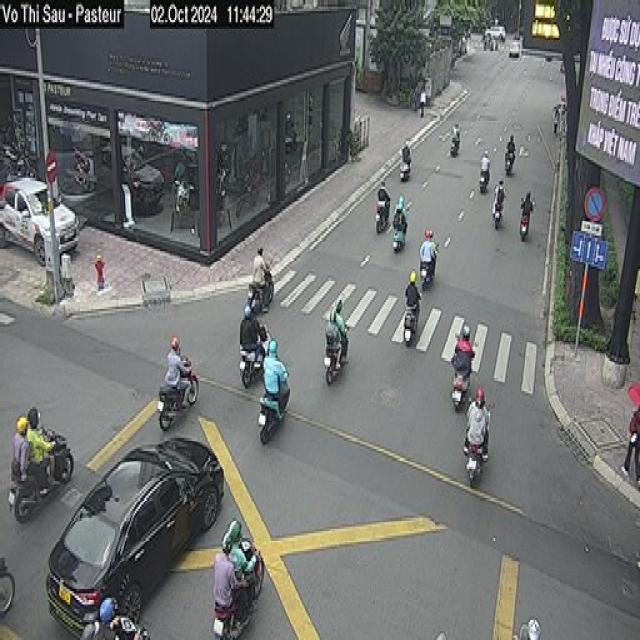car: (46, 438, 224, 619), (0, 179, 83, 266)
motorcycle: (7, 466, 73, 519), (153, 382, 197, 429), (211, 597, 254, 640), (0, 552, 19, 624), (235, 344, 270, 382), (319, 352, 351, 390), (247, 279, 279, 314), (117, 614, 152, 640), (402, 298, 419, 351), (453, 364, 468, 410), (467, 443, 482, 488), (396, 157, 416, 188), (419, 260, 436, 291), (517, 213, 532, 247), (491, 201, 506, 233), (391, 222, 404, 258), (504, 152, 518, 176), (449, 140, 462, 160), (478, 171, 490, 191)
person: (212, 534, 242, 630), (27, 392, 55, 493), (230, 516, 255, 612), (264, 338, 290, 414), (165, 336, 190, 413), (13, 412, 34, 493), (476, 387, 494, 459), (625, 406, 640, 484), (253, 241, 270, 304), (459, 323, 476, 382), (328, 310, 342, 376), (468, 399, 487, 447), (250, 299, 264, 364), (100, 598, 123, 636), (336, 292, 350, 348), (242, 305, 255, 361), (408, 272, 421, 324), (420, 227, 432, 276), (376, 179, 392, 215), (80, 618, 104, 640), (395, 192, 406, 236), (429, 226, 439, 273), (552, 101, 562, 143), (495, 173, 506, 209), (481, 143, 490, 186), (524, 186, 533, 221), (403, 136, 411, 171), (508, 131, 516, 163), (421, 84, 425, 124), (453, 120, 459, 144)
